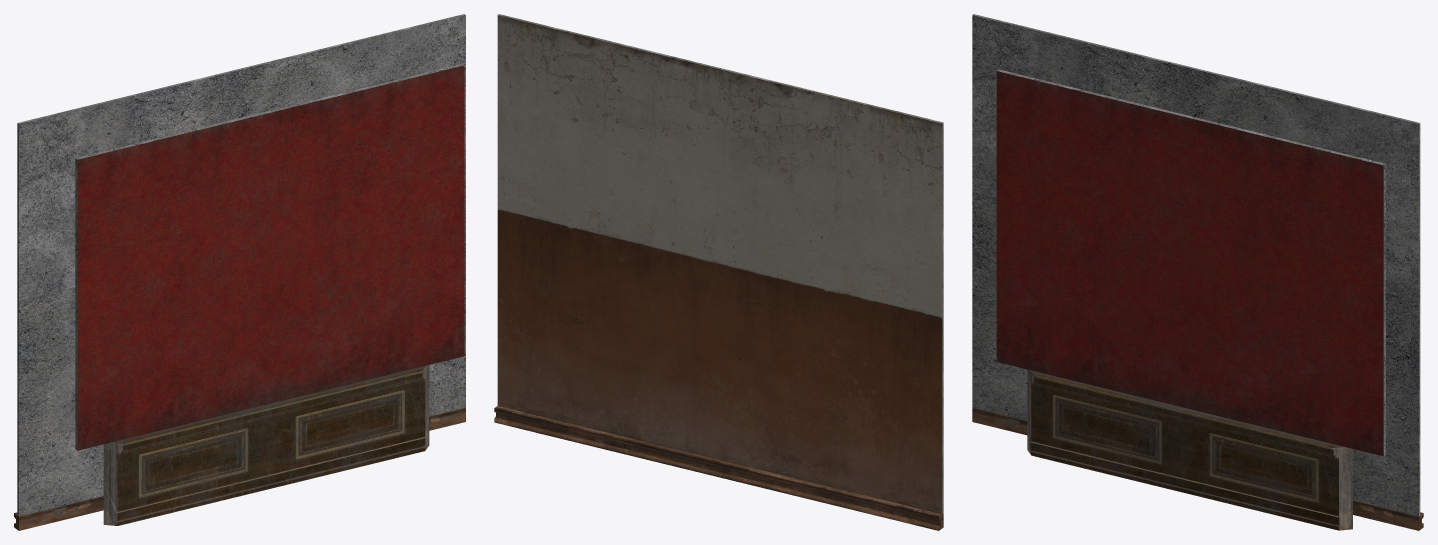
File: sm42_201_tyrantpressroomwall.fbx
3 renders of one model, left to right at view 1: azimuth 30°, elevation 25°; view 2: azimuth 150°, elevation 25°; view 3: azimuth 330°, elevation 25°, orthographic.
Parts seen in each view (by area): view 1: LOD_1_Group_0_Sub_3__st2_police1fRightWall11_, LOD_1_Group_0_Sub_1__CutMat_Cement, LOD_1_Group_0_Sub_4__st2_police1fRightWindow11_, LOD_1_Group_0_Sub_6__st2_police1fRightWall03_, LOD_1_Group_0_Sub_5__CutMat_Wood_3; view 2: LOD_1_Group_0_Sub_2__st2_police1fRightWall02_, LOD_1_Group_0_Sub_6__st2_police1fRightWall03_, LOD_1_Group_0_Sub_1__CutMat_Cement; view 3: LOD_1_Group_0_Sub_3__st2_police1fRightWall11_, LOD_1_Group_0_Sub_1__CutMat_Cement, LOD_1_Group_0_Sub_4__st2_police1fRightWindow11_, LOD_1_Group_0_Sub_6__st2_police1fRightWall03_, LOD_1_Group_0_Sub_5__CutMat_Wood_3.
Part boxes in pixels (box(x1,y1,x2,y2)): LOD_1_Group_0_Sub_3__st2_police1fRightWall11_: box(77, 65, 464, 450); LOD_1_Group_0_Sub_1__CutMat_Cement: box(17, 14, 465, 516); LOD_1_Group_0_Sub_4__st2_police1fRightWindow11_: box(112, 365, 426, 525); LOD_1_Group_0_Sub_6__st2_police1fRightWall03_: box(14, 407, 465, 530); LOD_1_Group_0_Sub_5__CutMat_Wood_3: box(103, 365, 429, 525); LOD_1_Group_0_Sub_2__st2_police1fRightWall02_: box(497, 15, 942, 513); LOD_1_Group_0_Sub_6__st2_police1fRightWall03_: box(494, 406, 943, 530); LOD_1_Group_0_Sub_1__CutMat_Cement: box(498, 14, 943, 513); LOD_1_Group_0_Sub_3__st2_police1fRightWall11_: box(996, 71, 1383, 456); LOD_1_Group_0_Sub_1__CutMat_Cement: box(972, 14, 1420, 516); LOD_1_Group_0_Sub_4__st2_police1fRightWindow11_: box(1030, 370, 1345, 530); LOD_1_Group_0_Sub_6__st2_police1fRightWall03_: box(972, 407, 1423, 530); LOD_1_Group_0_Sub_5__CutMat_Wood_3: box(1027, 369, 1352, 530).
Size of the model in its own units: 4.48 by 3.9 by 0.4612.
